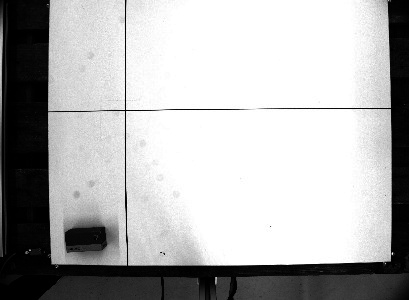b3: (62, 224, 108, 254)
